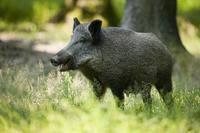wildboar: (48, 15, 176, 113)
